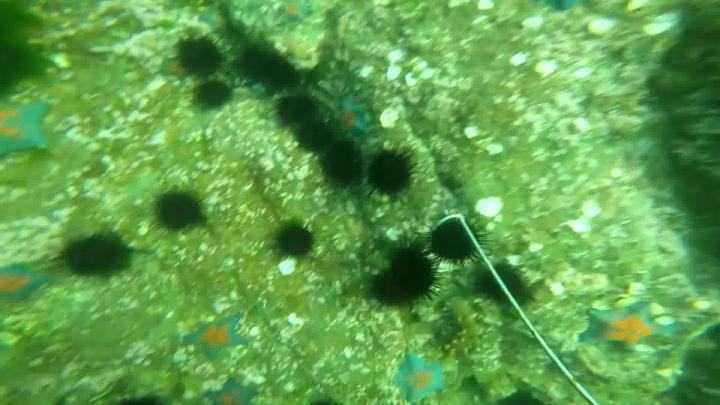echinus: (64, 236, 132, 302), (375, 242, 443, 305), (422, 217, 495, 272), (366, 143, 419, 203), (235, 45, 299, 92), (157, 189, 202, 237), (481, 263, 531, 305), (176, 37, 228, 77), (317, 143, 359, 190), (270, 221, 320, 260), (297, 118, 341, 152), (278, 92, 320, 123), (194, 79, 231, 107)
holothurian: (443, 296, 483, 372)
scallop: (644, 9, 685, 38), (477, 199, 505, 218), (588, 20, 619, 37), (569, 217, 597, 235), (534, 60, 561, 78), (379, 108, 402, 129), (280, 259, 299, 276), (387, 65, 404, 82), (520, 18, 548, 28), (583, 203, 602, 217), (511, 56, 528, 66)
starfish: (581, 300, 672, 355), (3, 101, 54, 155), (393, 355, 448, 405), (184, 315, 250, 356), (5, 264, 51, 301), (332, 95, 368, 142), (208, 380, 258, 405), (280, 1, 308, 23)
